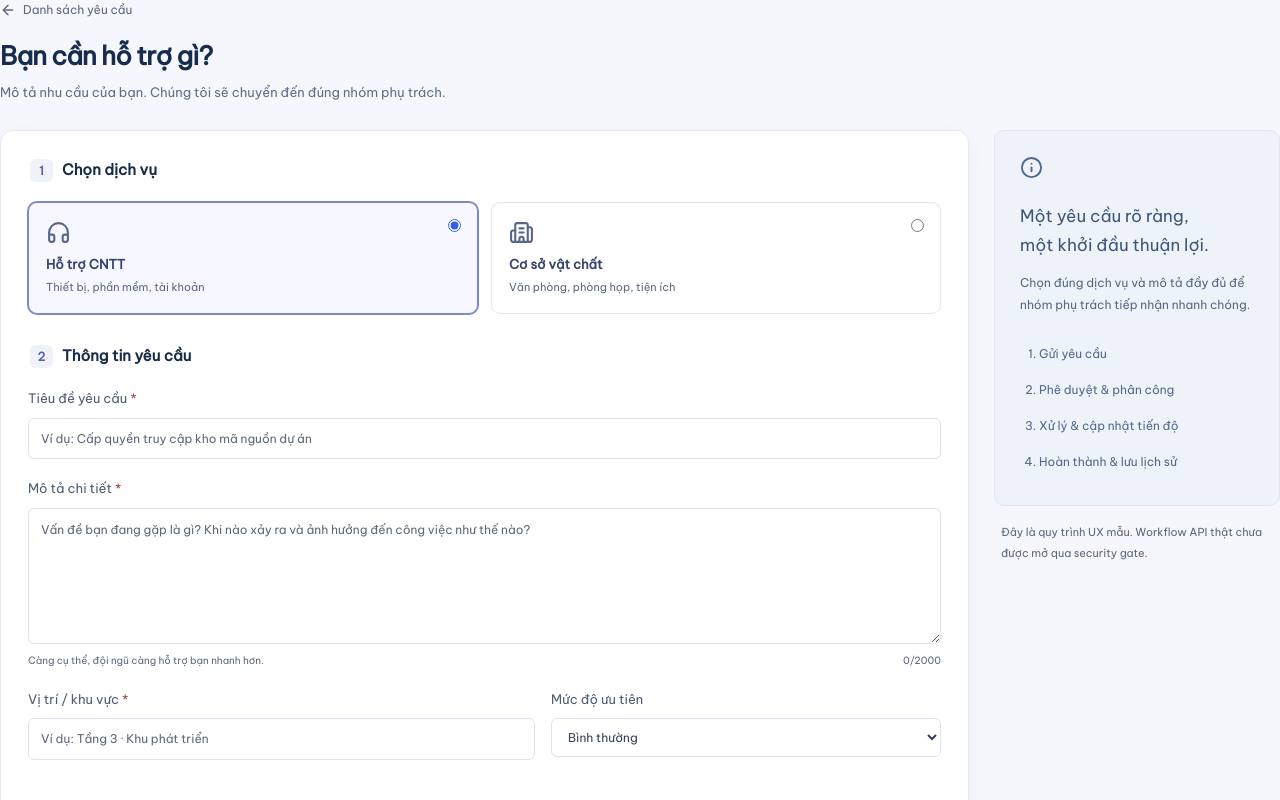
it: request form › creates a mock request and announces success
The width and height of the screenshot is (1280, 800).
In the field labelled "Tiêu đề yêu cầu *": (484, 438) x1=28 y1=418 x2=941 y2=459, type "Cài đặt phần mềm cho máy tính"
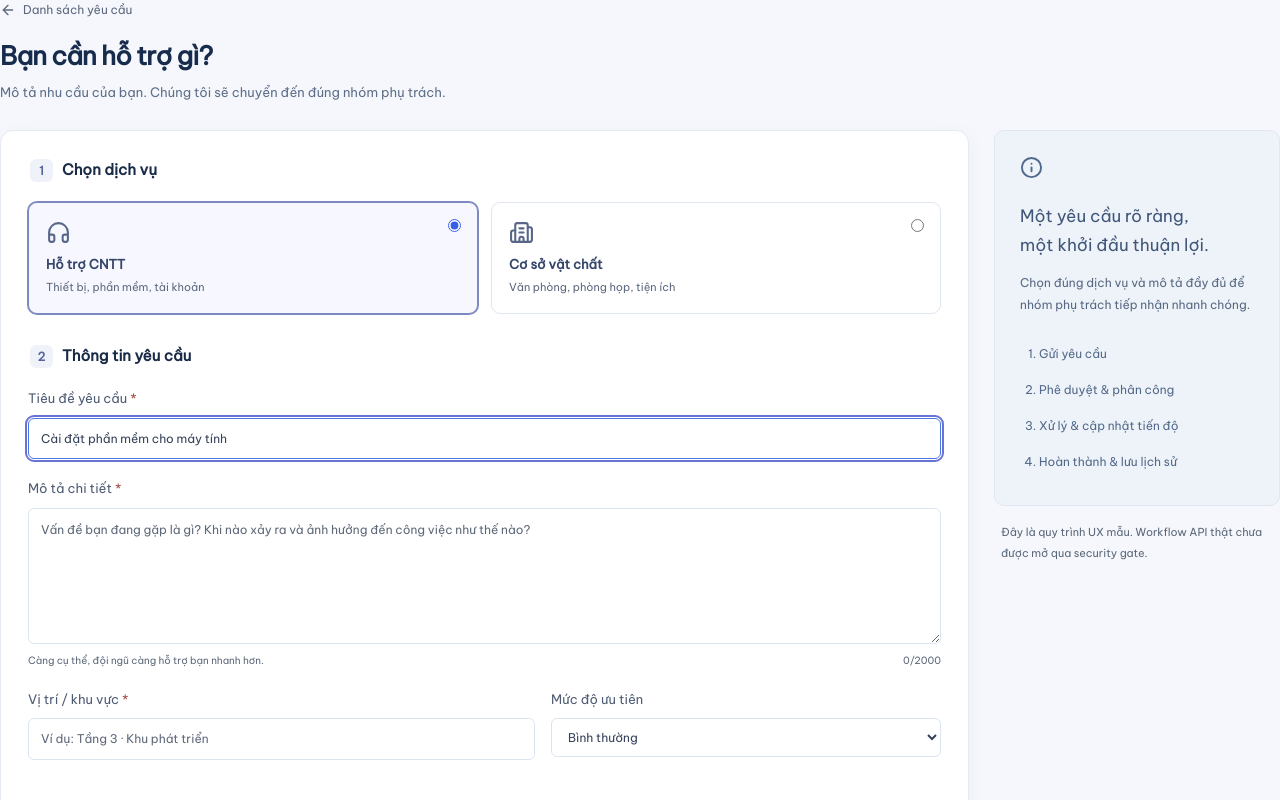
In the text box labelled "Mô tả chi tiết": (484, 576) x1=28 y1=508 x2=941 y2=644, type "Đề nghị cài đặt các công cụ phát triển cho dự án mới."
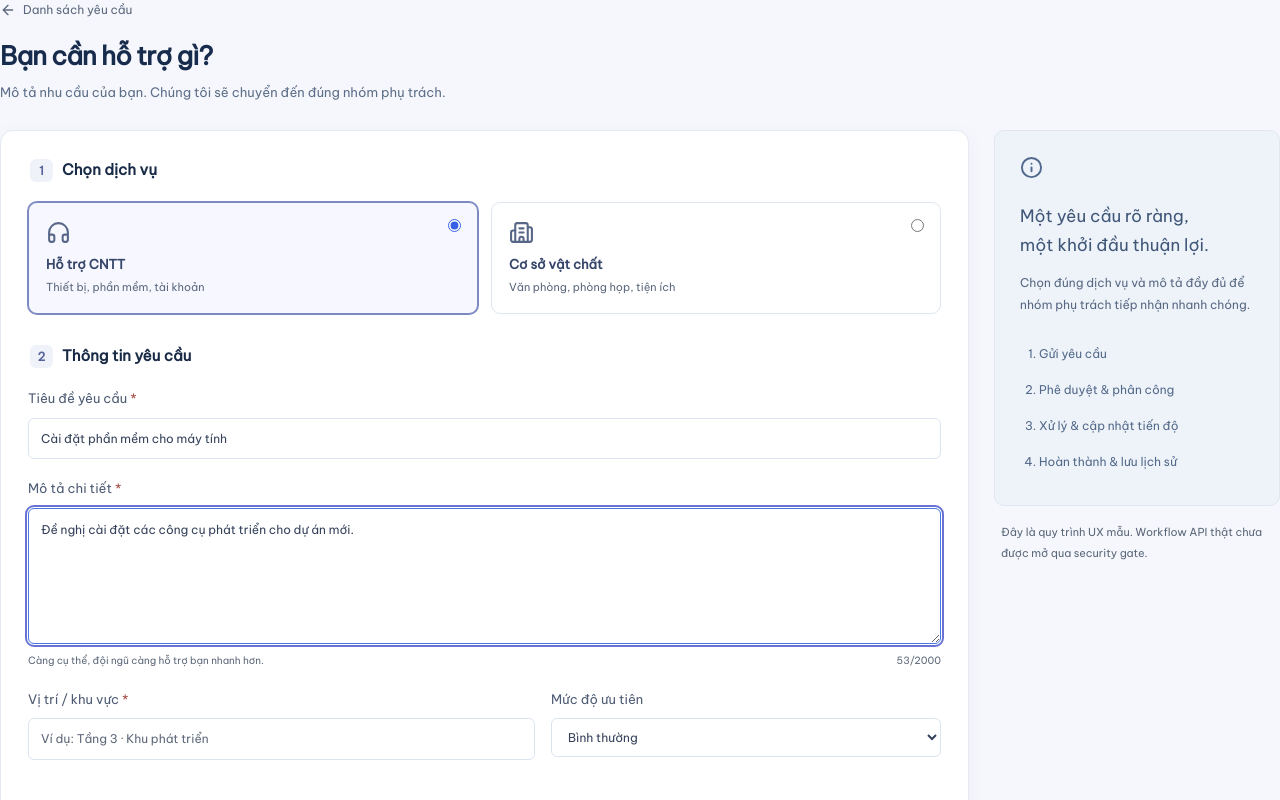
In the field labelled "Vị trí / khu vực *": (282, 739) x1=28 y1=718 x2=535 y2=760, type "Tầng 3"
(page scrolled)
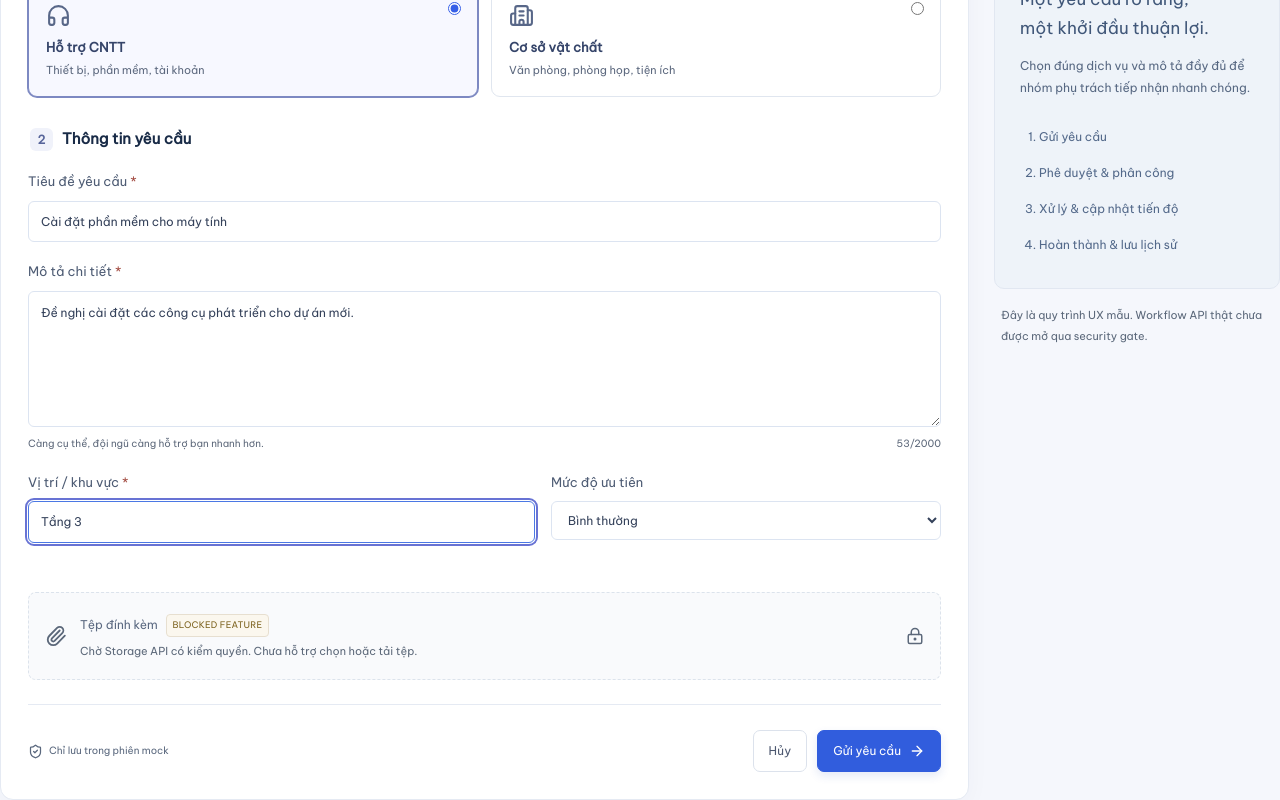
Click the button "Gửi yêu cầu": (879, 751) x1=817 y1=730 x2=941 y2=772
(page scrolled)
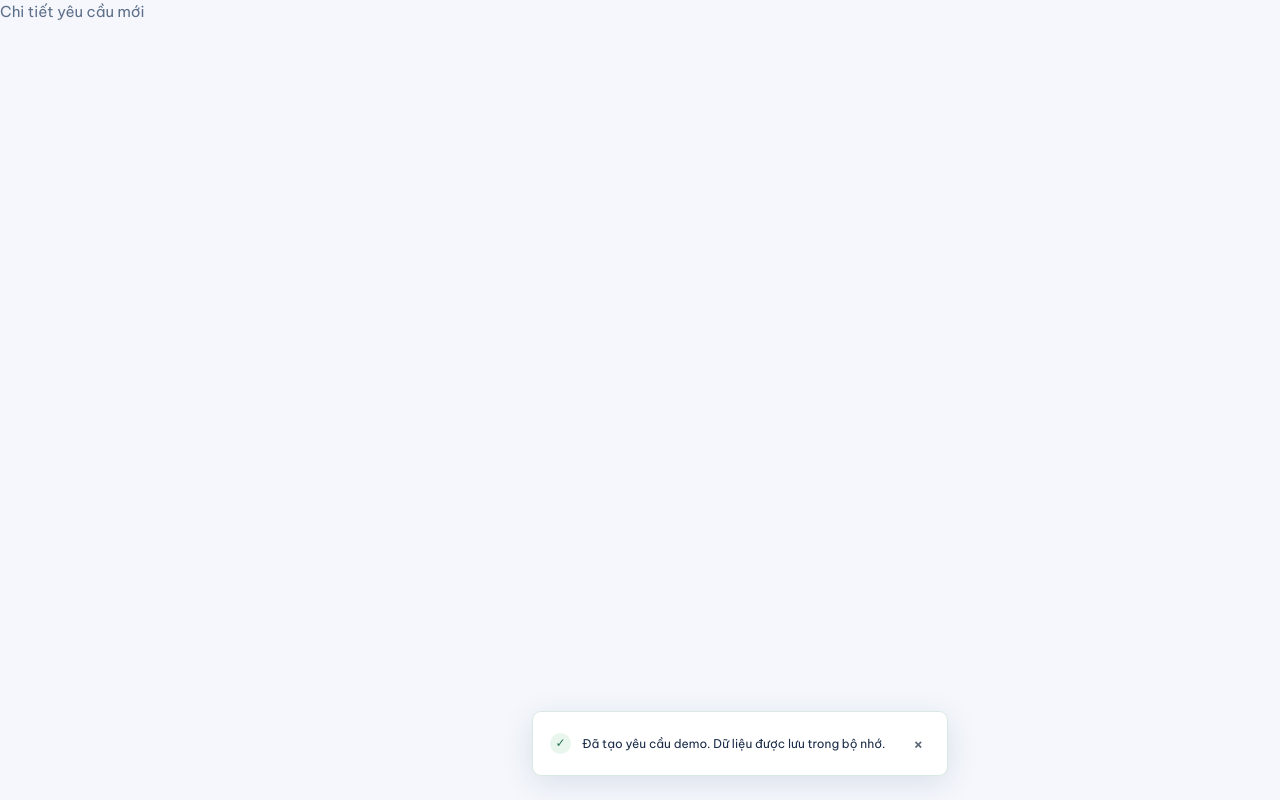
Expected: the text "Chi tiết yêu cầu mới" is shown, x1=0 y1=2 x2=144 y2=21
Expected: the message shows "Đã tạo yêu cầu demo", x1=582 y1=736 x2=885 y2=751
